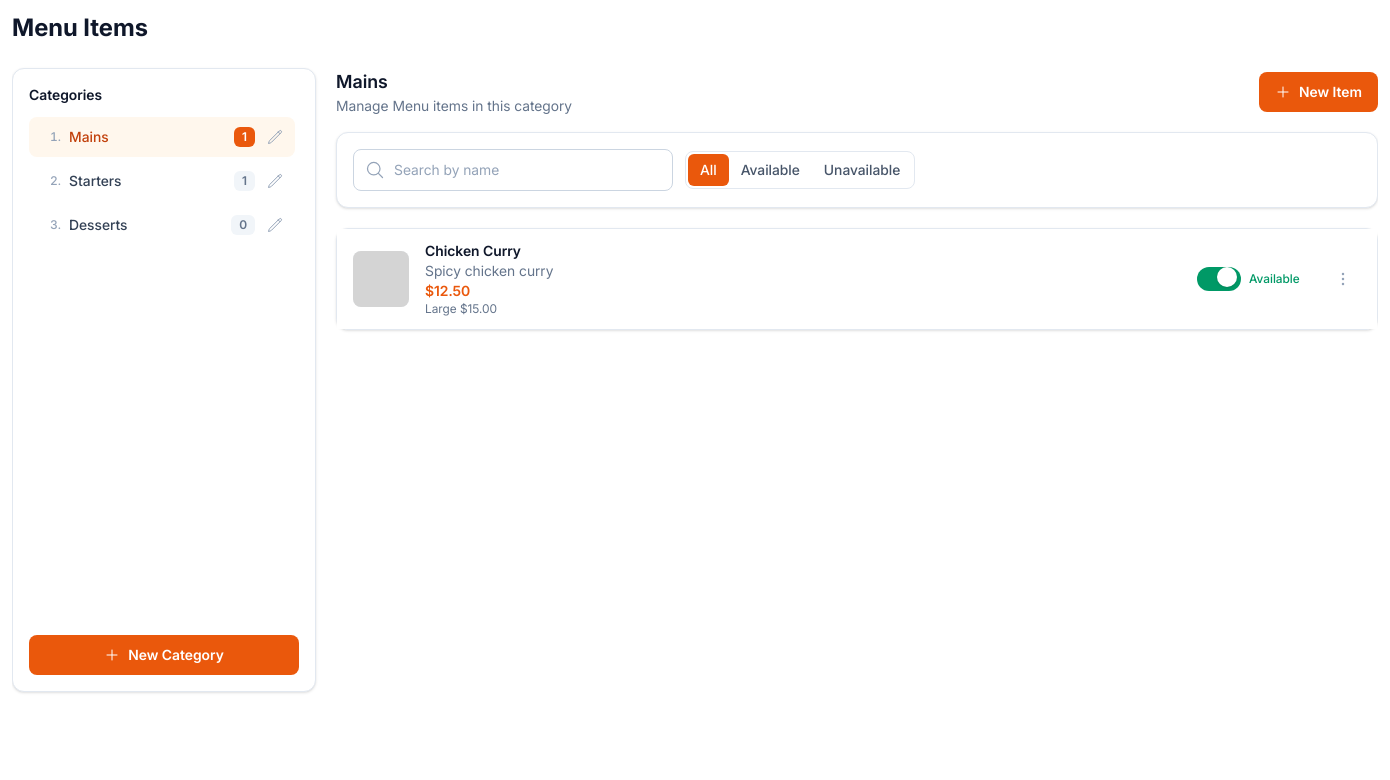
Test case: MenuItemsView › selects the first category and switches the right pane from the sidebar
This screenshot has width=1390, height=780.
Check: the button "1. Mains" is shown, box x1=29 y1=117 x2=202 y2=157
Click the button with aria-label "Select Starters".
click(116, 181)  # box x1=29 y1=161 x2=202 y2=201
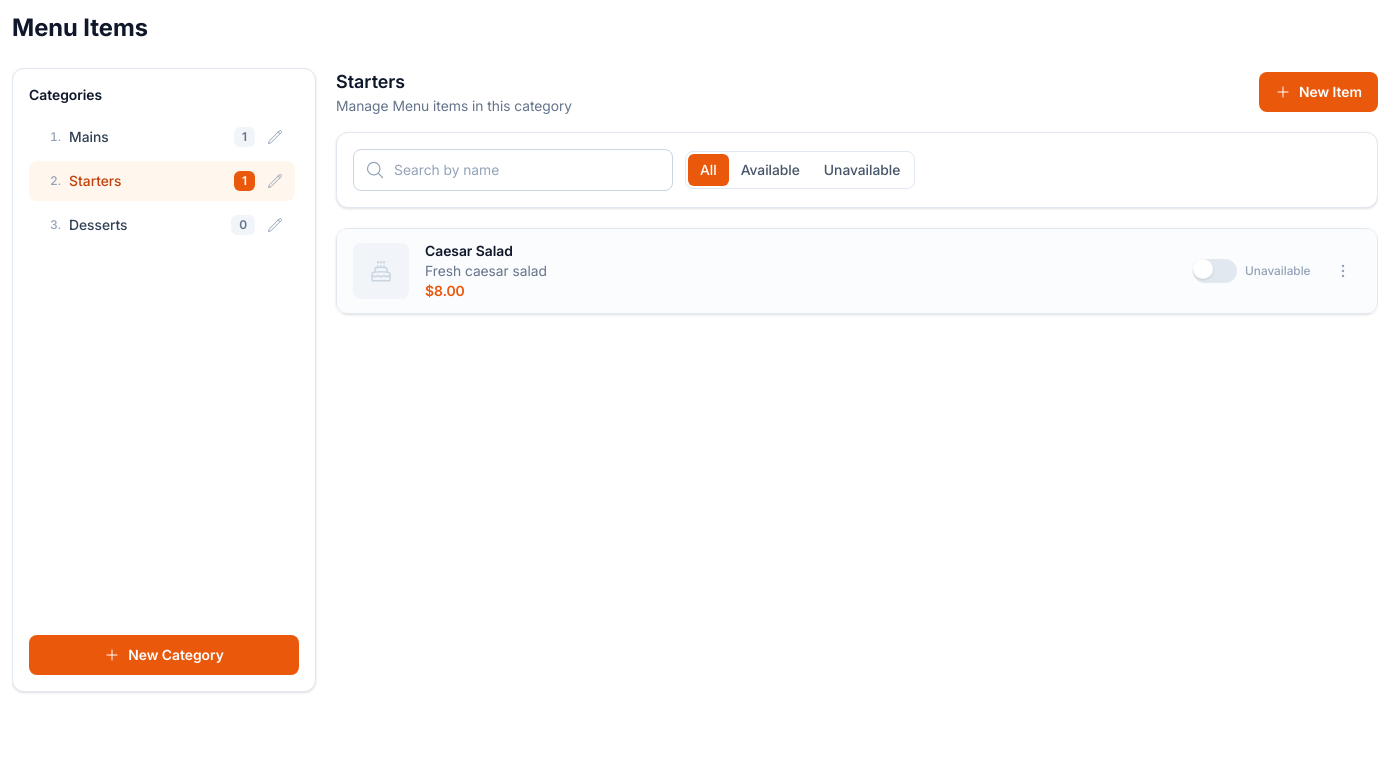
Check: the text "Caesar Salad" is shown, box x1=425 y1=242 x2=513 y2=259
